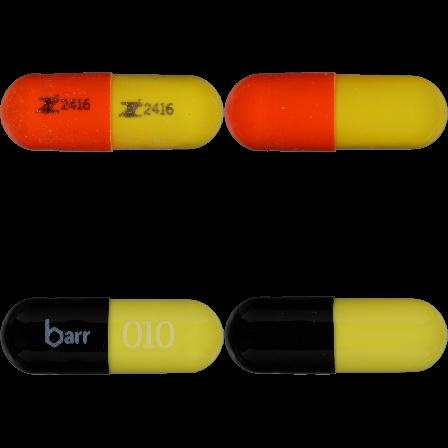63629-1501: (0, 0, 224, 224)
